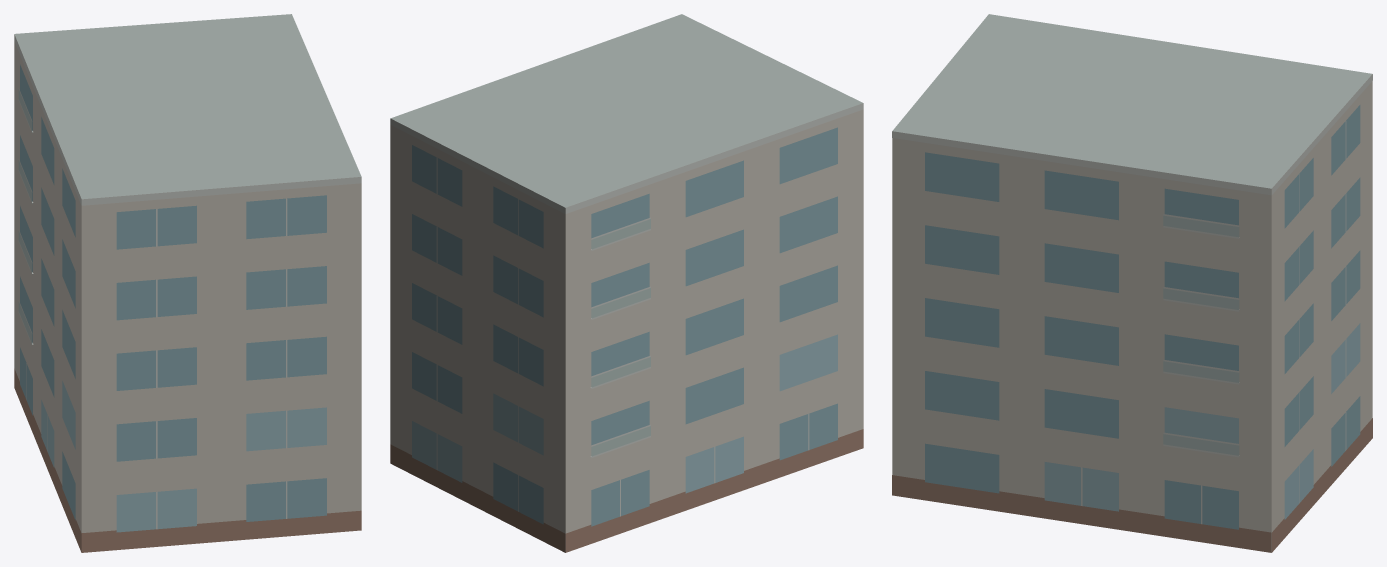
File: survey-upis-32891017.glb
3 views of the same model, side by side, from view 1: azimuth 30°, elevation 25°; view 2: azimuth 150°, elevation 25°; view 3: azimuth 270°, elevation 25° (orthographic). The views are drawn at different scales.
Parts seen in each view (by area): view 1: survey-upis-32891017.tmp; view 2: survey-upis-32891017.tmp; view 3: survey-upis-32891017.tmp.
Boxes of the visible parts, box(x1,y1,x2,y2) form: survey-upis-32891017.tmp: box(14, 14, 361, 552); survey-upis-32891017.tmp: box(390, 14, 863, 552); survey-upis-32891017.tmp: box(892, 14, 1372, 552).
Bounding box in the file's own units: 13.64 × 13.25 × 15.86.
